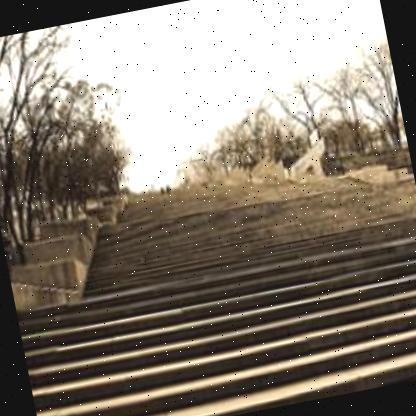stair: (16, 230, 416, 416)
